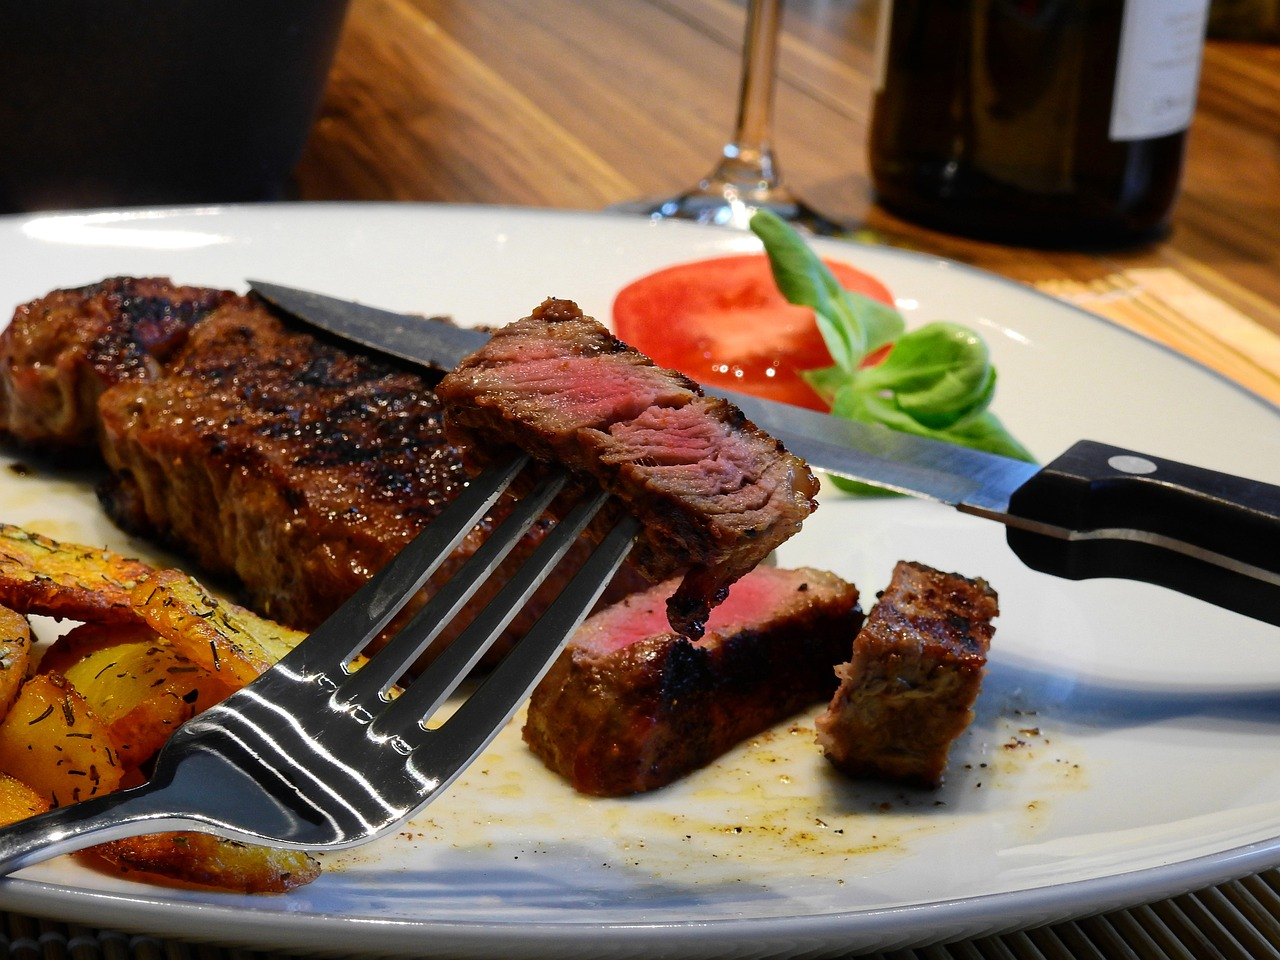knife: (237, 271, 1280, 636)
